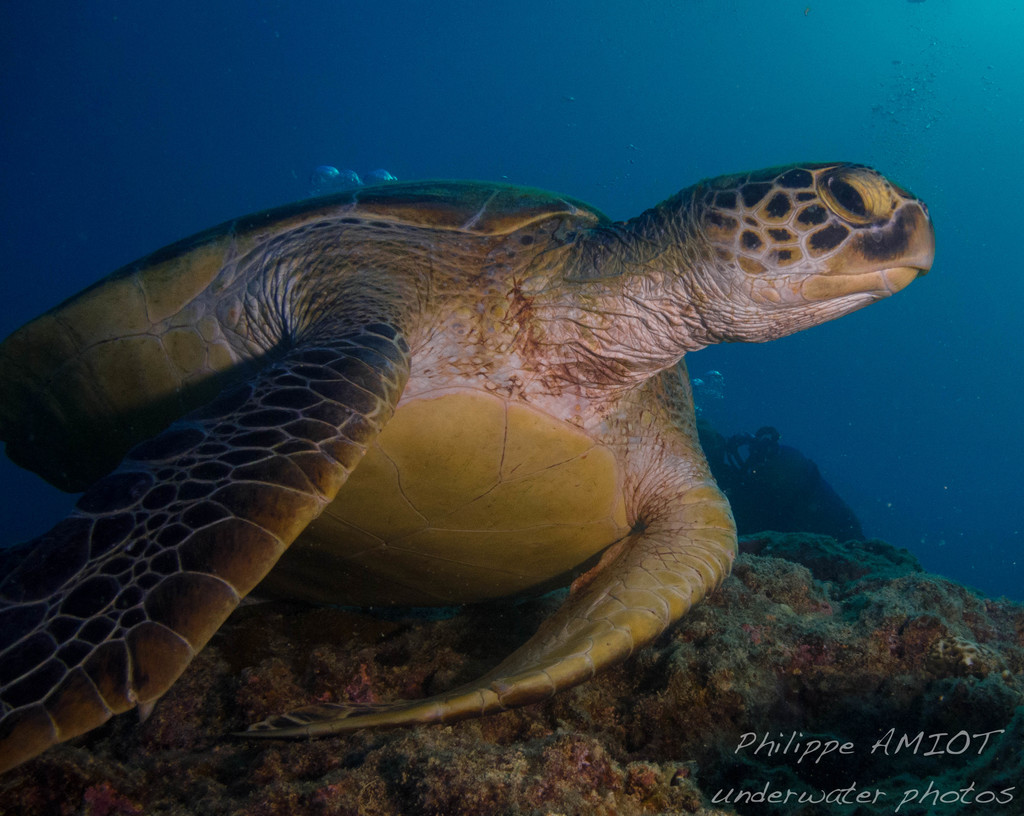Sea turtles: (0, 153, 939, 777)
